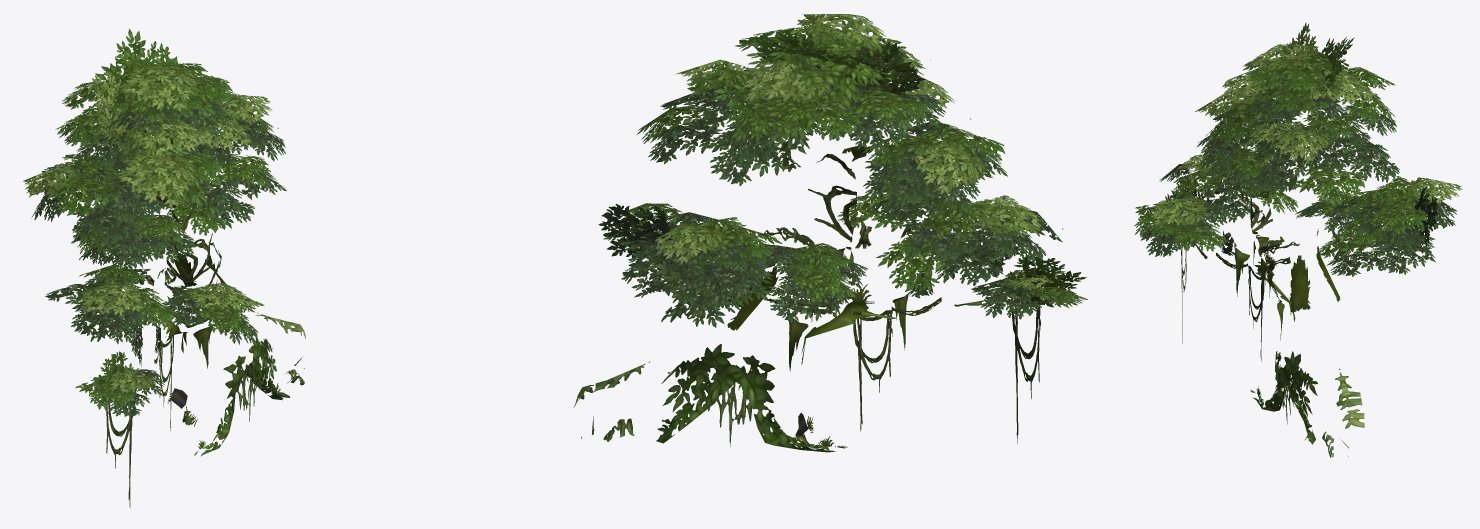
Rendered from S_Tree_Green130.FBX.
3 views of the same model, side by side, from view 1: azimuth 30°, elevation 25°; view 2: azimuth 150°, elevation 25°; view 3: azimuth 270°, elevation 25° (orthographic). The views are drawn at different scales.
Parts seen in each view (by area): view 1: S_Tree_Green130; view 2: S_Tree_Green130; view 3: S_Tree_Green130.
Part boxes in pixels (left/top/right/bottom): S_Tree_Green130: left=23, top=29, right=305, bottom=507; S_Tree_Green130: left=573, top=14, right=1087, bottom=452; S_Tree_Green130: left=1134, top=22, right=1462, bottom=457.
Bounding box in the file's own units: 406 × 363 × 302.
2 materials, 2 textured.
